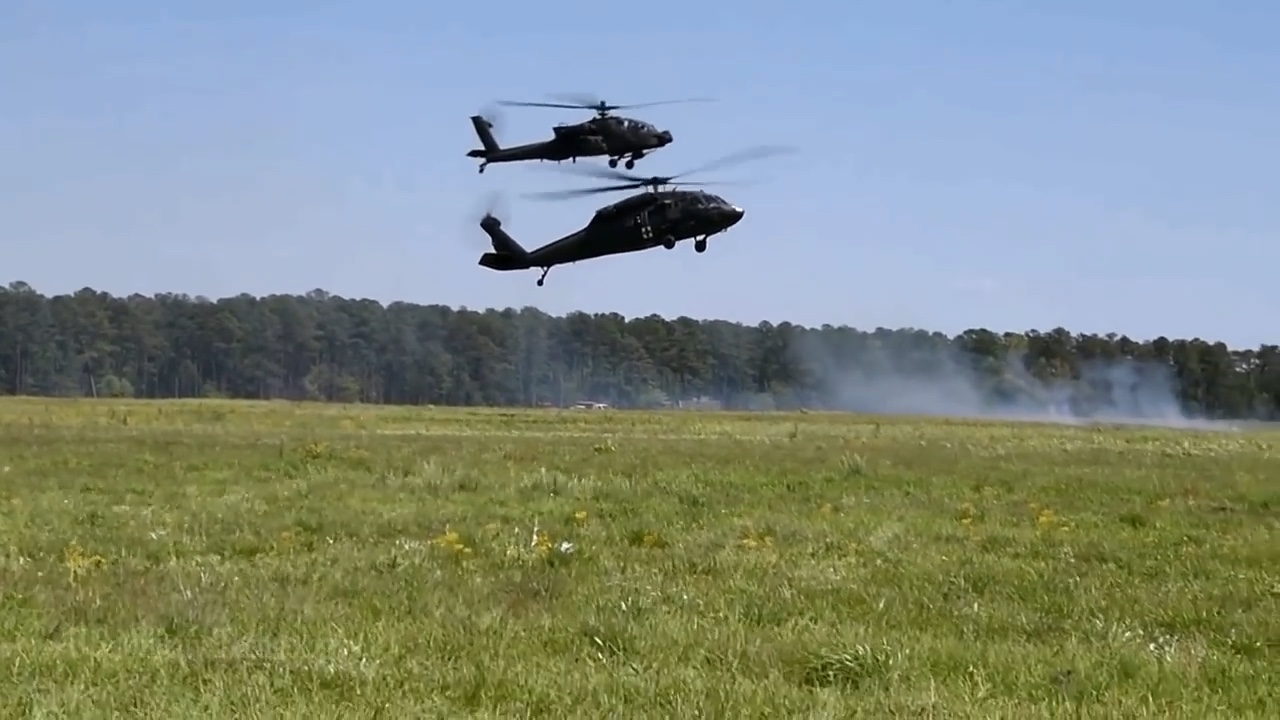ah64: (463, 90, 723, 175)
seahawk: (470, 144, 799, 288)
